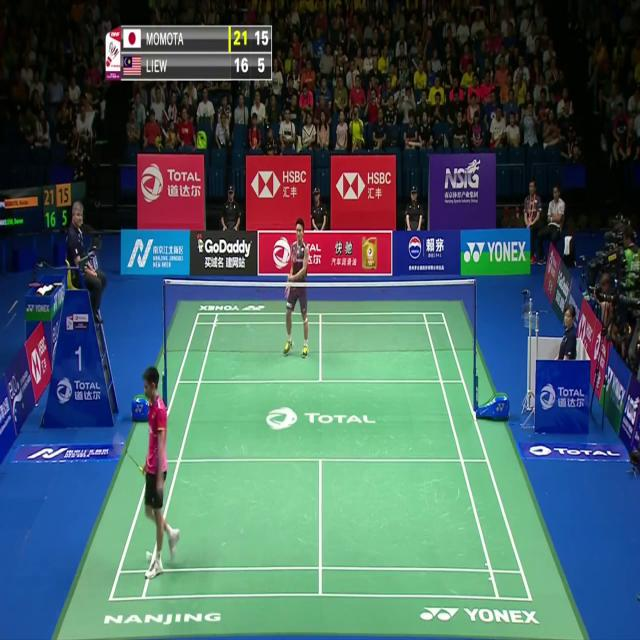Shuttlecock: (146, 549, 153, 560)
